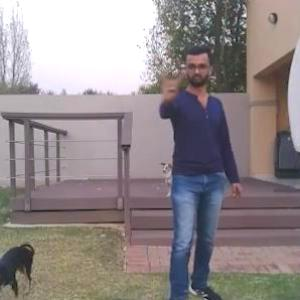takeoff-hand: (151, 60, 185, 104)
